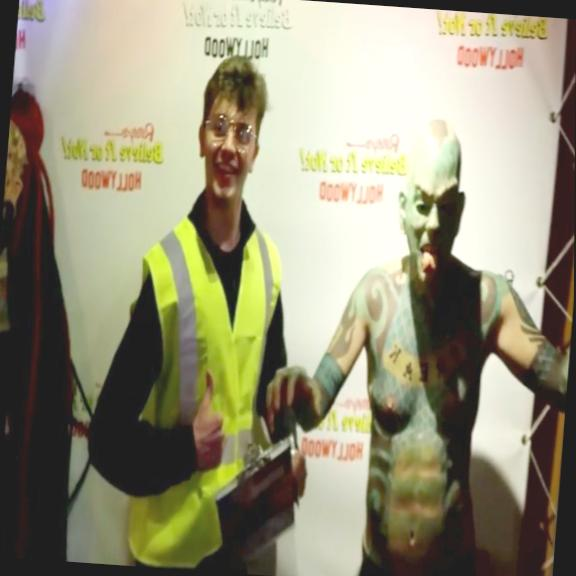safety_vest: (117, 213, 289, 575)
